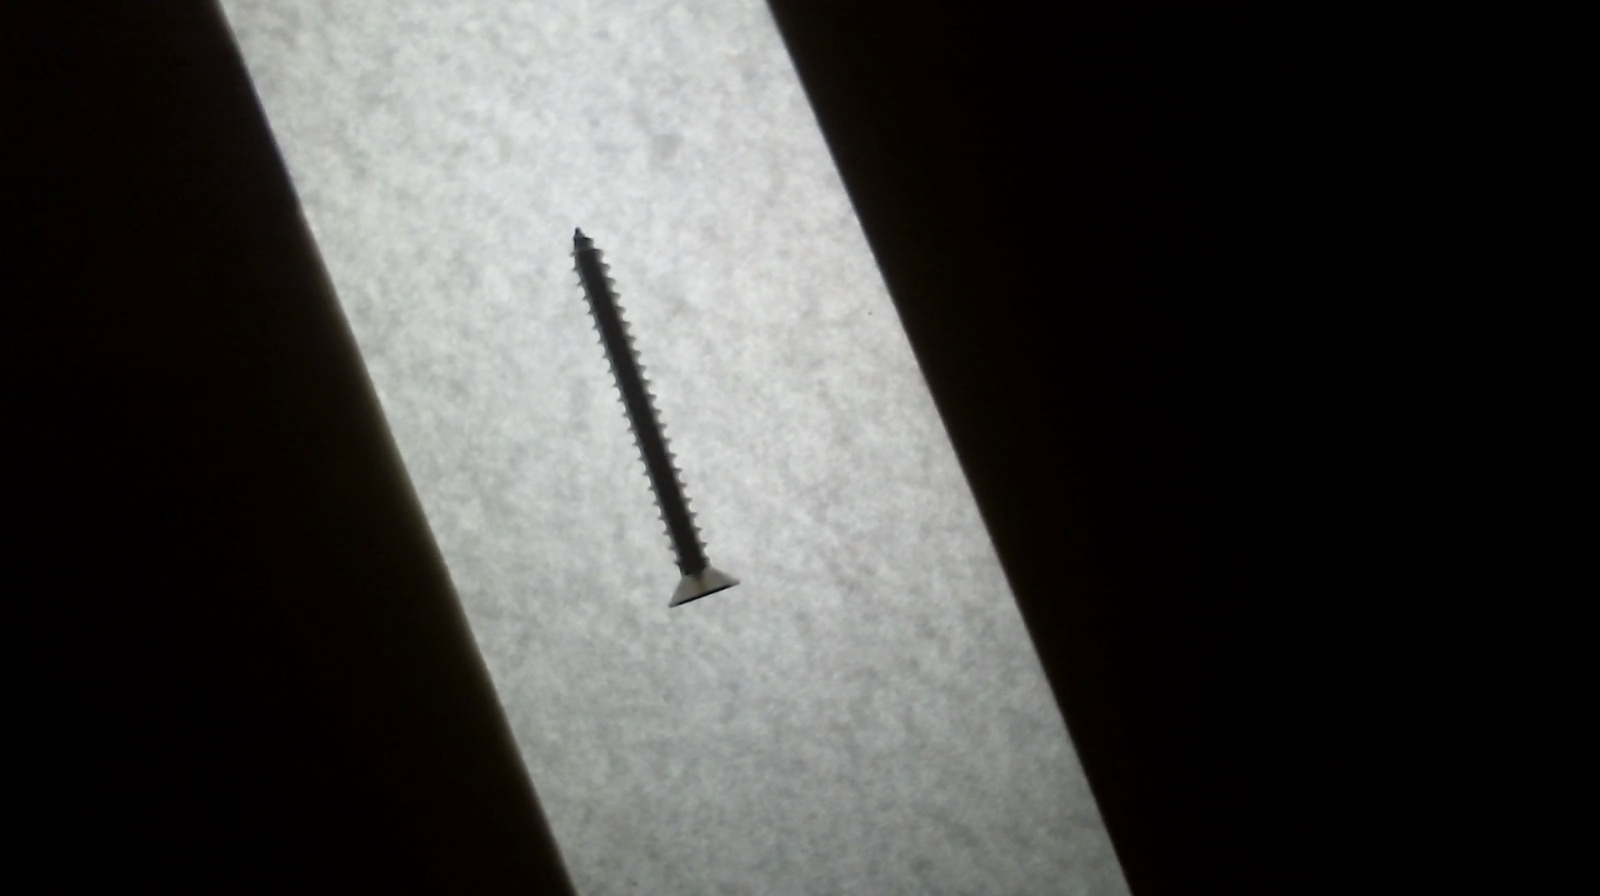S002: (534, 214, 773, 631)
